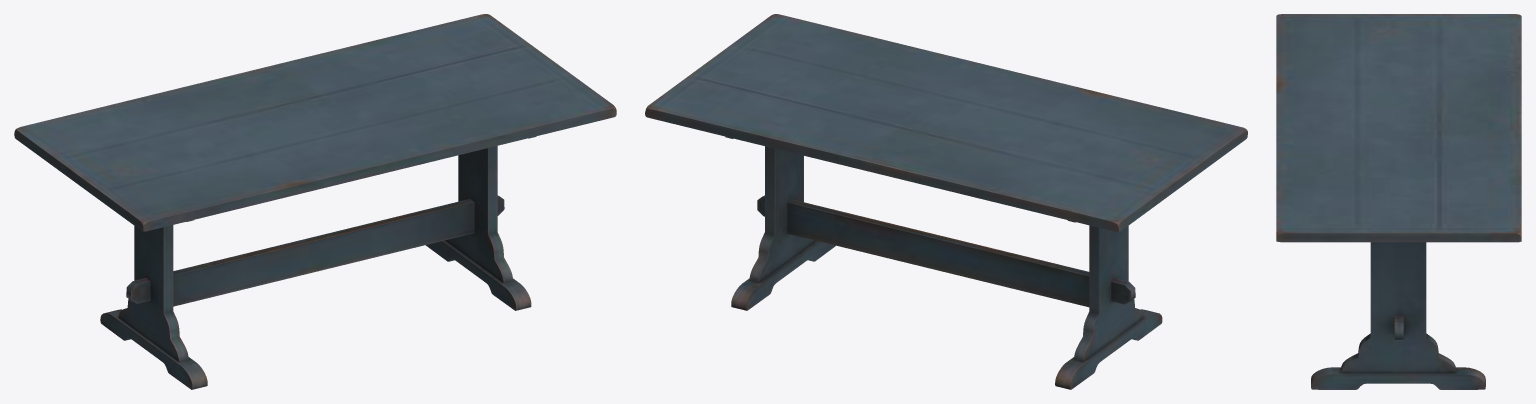
The model's file is table-painted.lite.d472b3cd.glb.
The picture shows the model from 3 angles, left to right: view 1: azimuth 30°, elevation 25°; view 2: azimuth 150°, elevation 25°; view 3: azimuth 270°, elevation 25°; orthographic projection. The views are drawn at different scales.
Parts seen in each view (by area): view 1: model; view 2: model; view 3: model.
Boxes of the visible parts, bbox=[...] form: model: bbox=[14, 14, 616, 389]; model: bbox=[645, 14, 1247, 389]; model: bbox=[1276, 14, 1521, 389].
Size of the model in its own units: 2.41 by 0.9586 by 1.14.
1 material, 1 textured.
